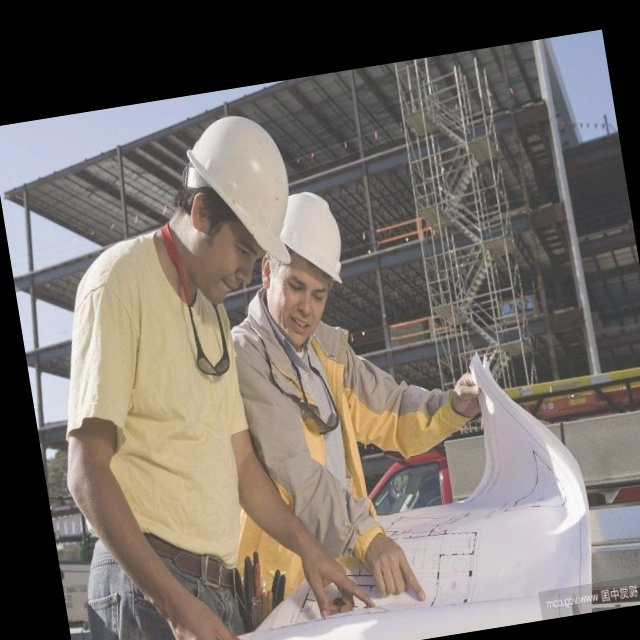Con_Casco: (150, 112, 307, 303)
Sin_Chaleco: (220, 318, 403, 563)
